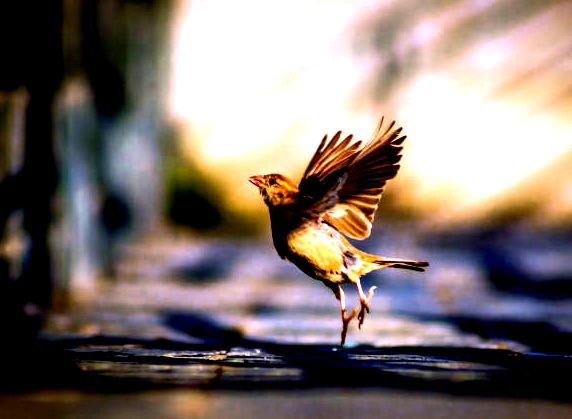Bird: (248, 111, 431, 351)
